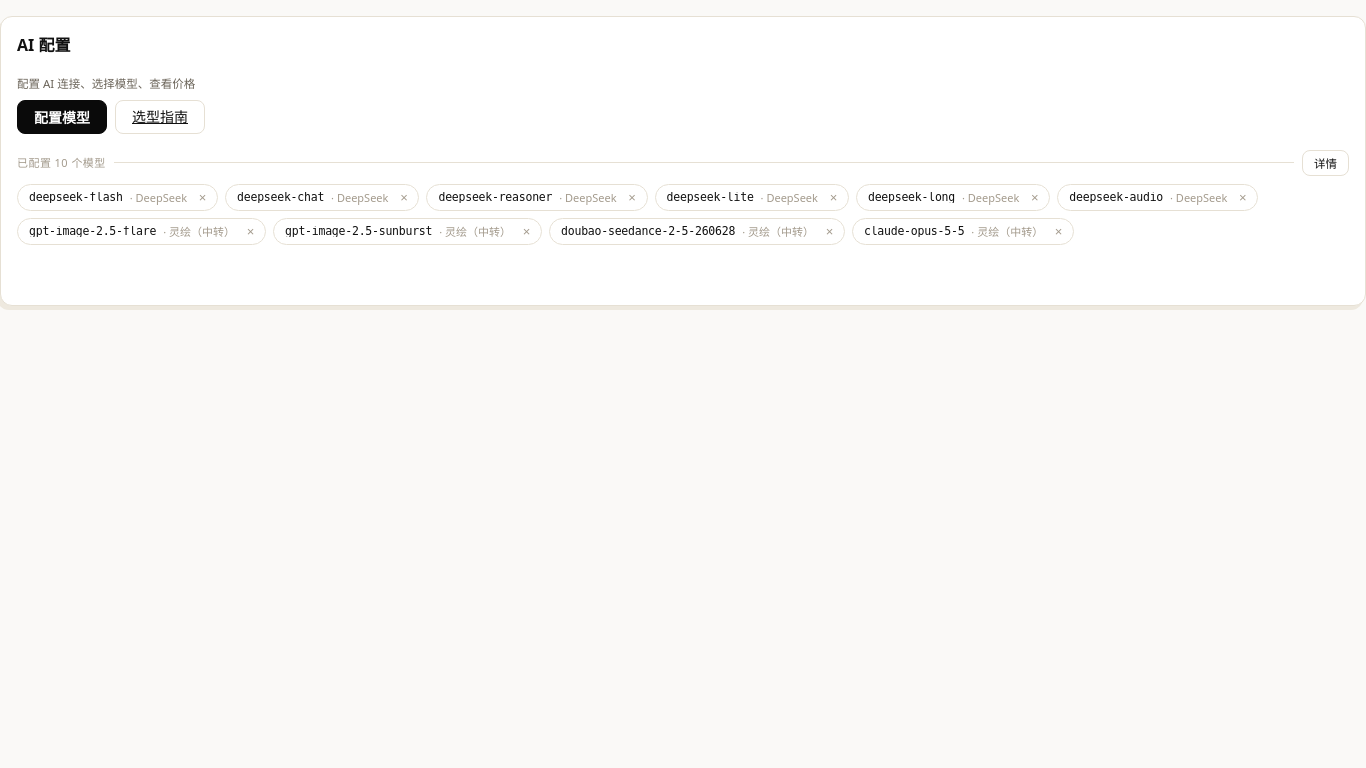
Test: C. 详情弹窗 › 五个角色下拉 + 音频徽标 + 未配置的音频角色
Click the button with test id "ai-card-detail" at (1326, 163), box [1302,150,1349,176]
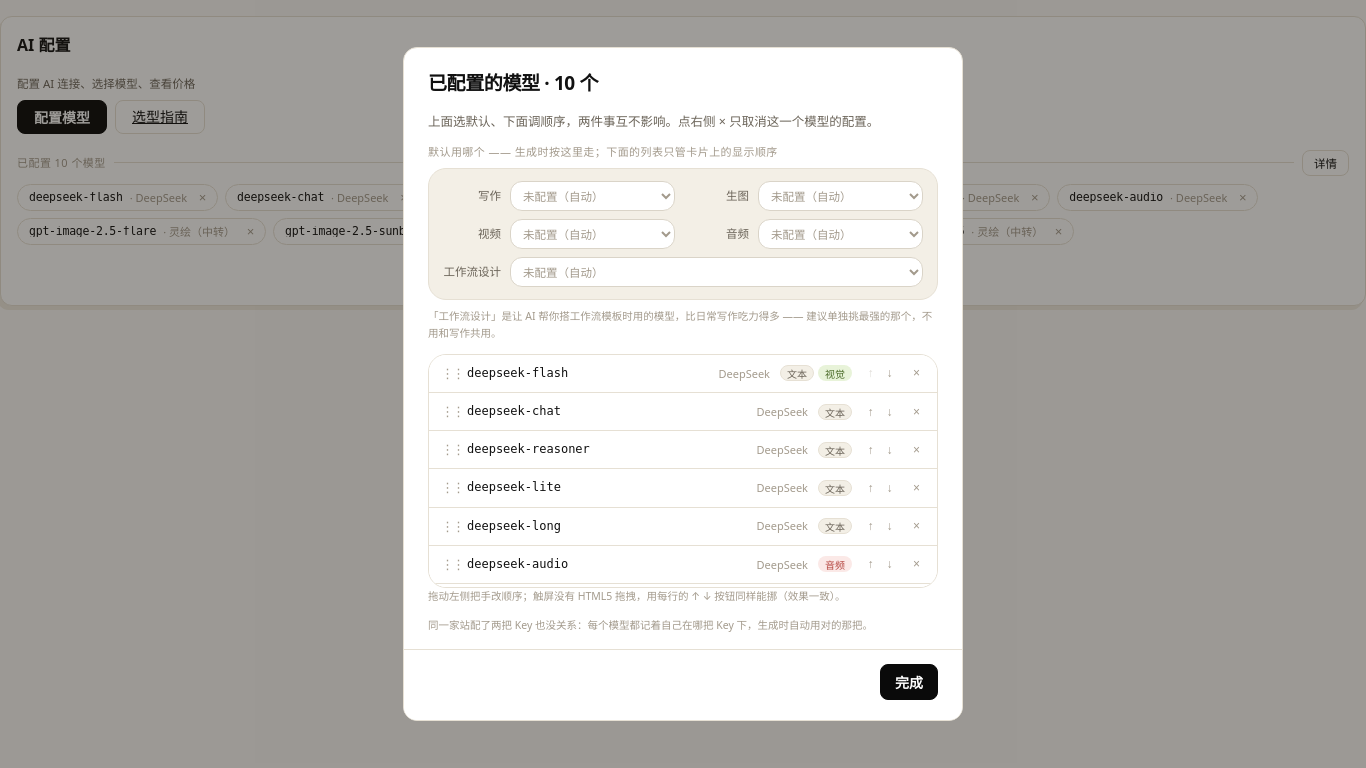
Expected: the text with class "ai-badge-audio" is shown, [818,556,852,572]
